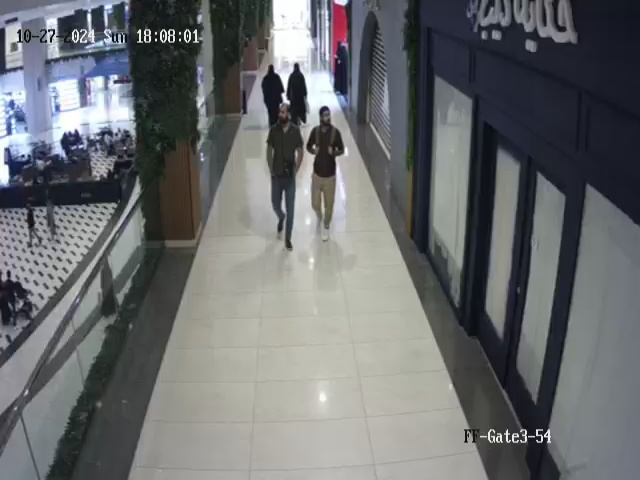female: (261, 64, 285, 128), (286, 63, 308, 126)
male: (266, 102, 304, 251), (306, 106, 345, 242)
